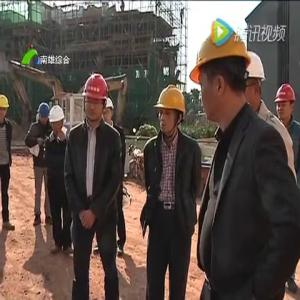blue: (37, 102, 51, 126)
red: (83, 73, 107, 123), (274, 84, 296, 122)
white: (242, 48, 266, 109), (49, 106, 66, 135), (102, 97, 115, 124)
yellow: (196, 32, 248, 126), (156, 85, 187, 138), (2, 94, 9, 123)
